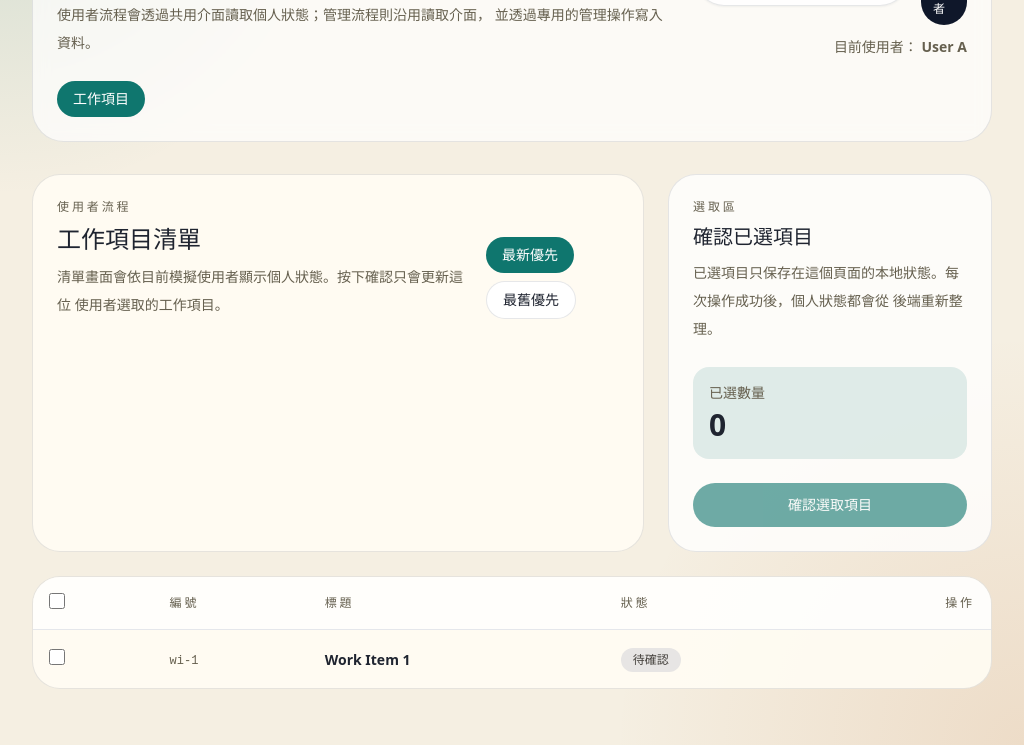
Test: WorkItemsPage › WorkItemsPage_WhenConfirmSucceeds_ClearsSelectionAndRefreshesList
(page scrolled)
Expected: the button "Work Item 1" is shown, [325,650,410,670]
Click the checkbox named "選取 Work Item 1" at (57, 657), box [49,649,65,665]
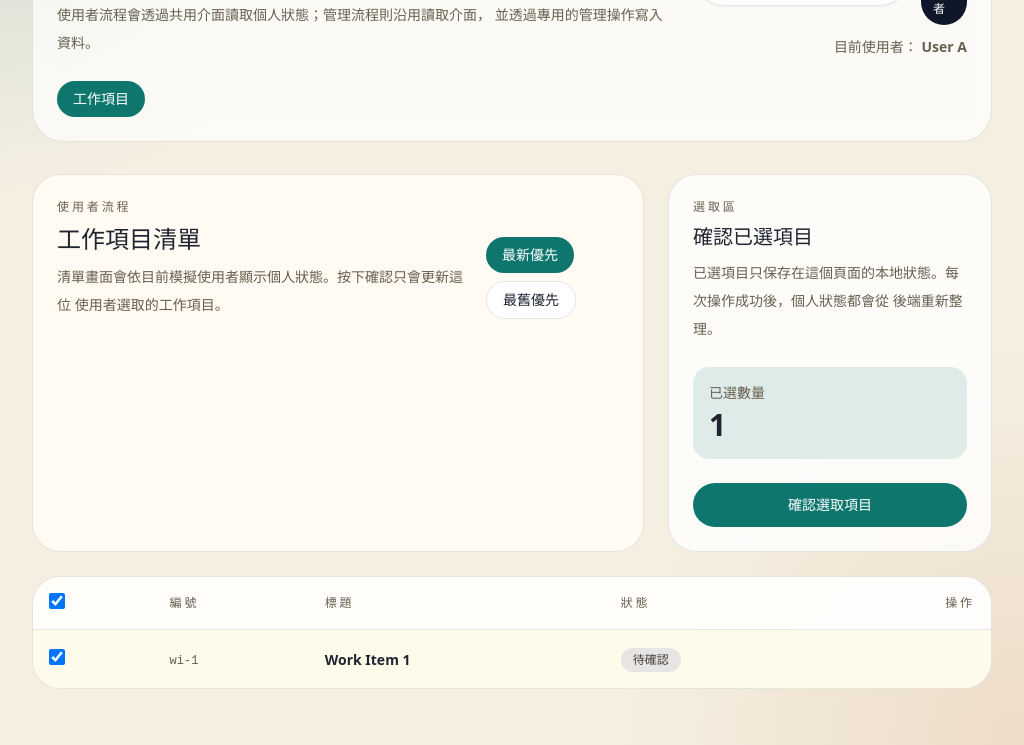
Expected: the text "Work Item 1" has class "bg-amber-50", [33,630,991,688]
Click the button "確認選取項目" at (830, 505), box [693,483,967,527]
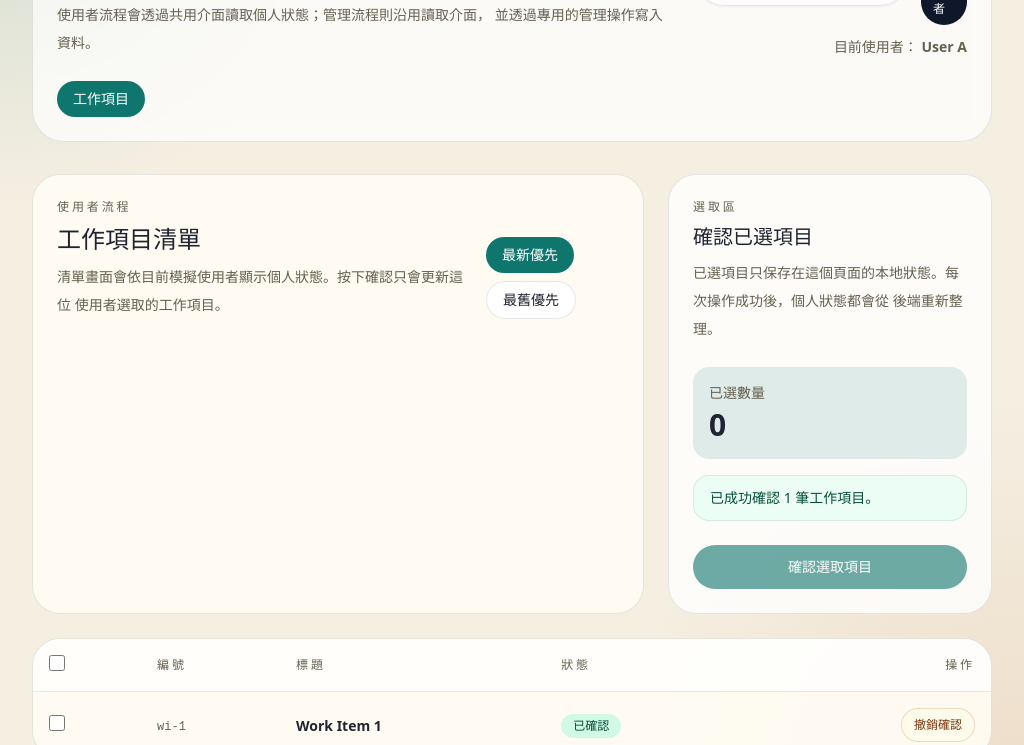
Expected: the checkbox named "選取 Work Item 1" is not checked, [49,715,65,731]
Expected: the text "已成功確認 1 筆工作項目。" is shown, [693,475,967,521]
Expected: the text "已確認" is shown, [561,714,621,738]
